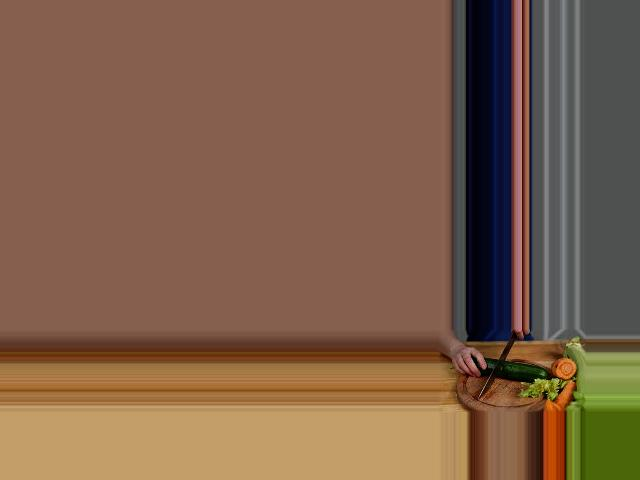cucumber: (472, 357, 549, 381)
